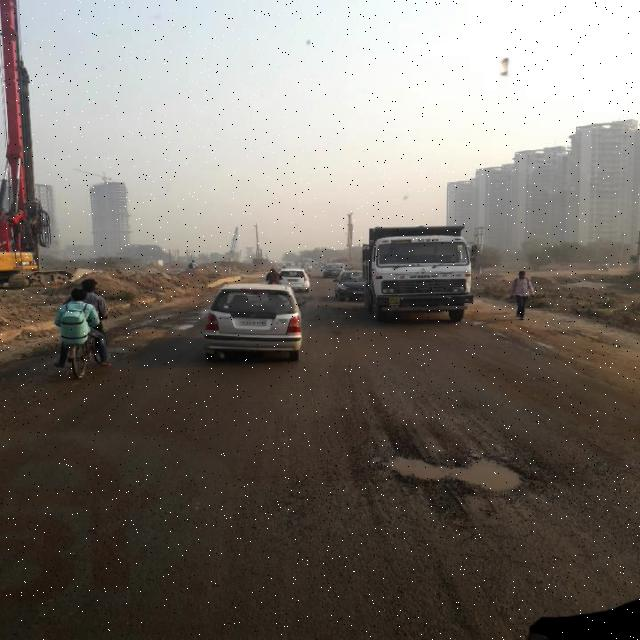D40: (378, 443, 532, 494)
